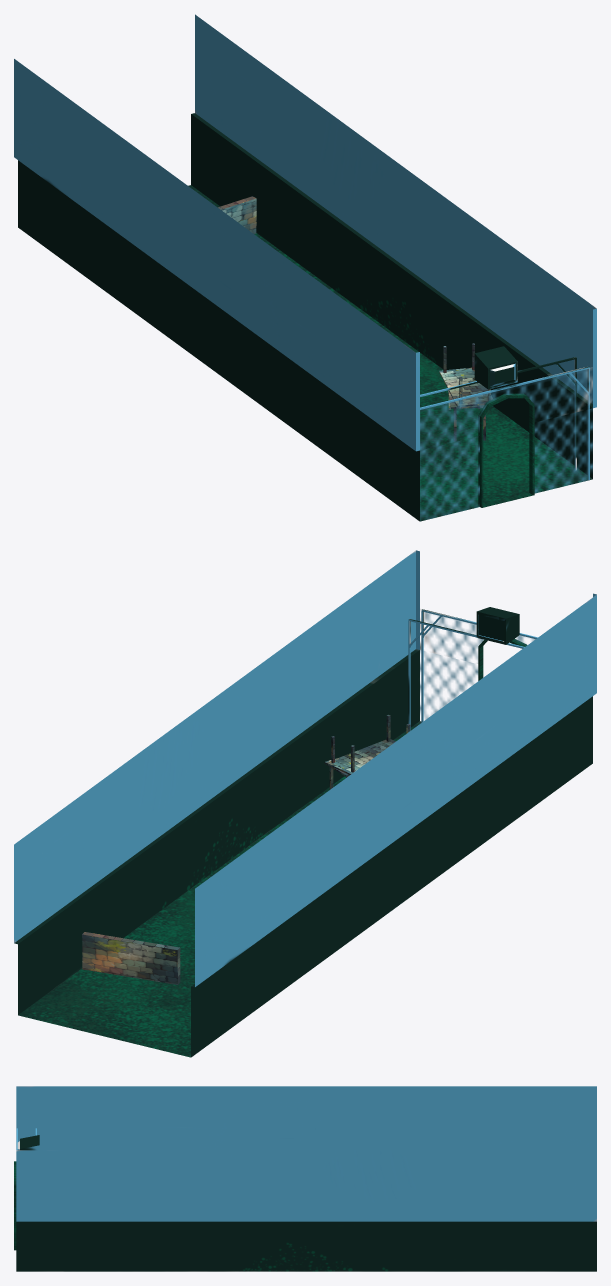
Rendered from corridor1_1.glb.
The picture shows the model from 3 angles, top to bottom: view 1: azimuth 30°, elevation 25°; view 2: azimuth 150°, elevation 25°; view 3: azimuth 270°, elevation 25°; orthographic projection. The views are drawn at different scales.
Parts seen in each view (by area): view 1: corridor_base.001, table_mesh.005, table_mesh.002; view 2: corridor_base.001, table_mesh.002, table_mesh.005; view 3: corridor_base.001.
Part boxes in pixels (x1,y1,x2,y2): corridor_base.001: (14, 14, 596, 521); table_mesh.005: (439, 343, 492, 407); table_mesh.002: (218, 196, 256, 233); corridor_base.001: (14, 550, 596, 1057); table_mesh.002: (82, 932, 180, 984); table_mesh.005: (326, 714, 410, 774); corridor_base.001: (14, 1086, 596, 1271).
Size of the model in its own units: 5.18 by 4.65 by 20.
Materials: 2 (2 with a texture image).
